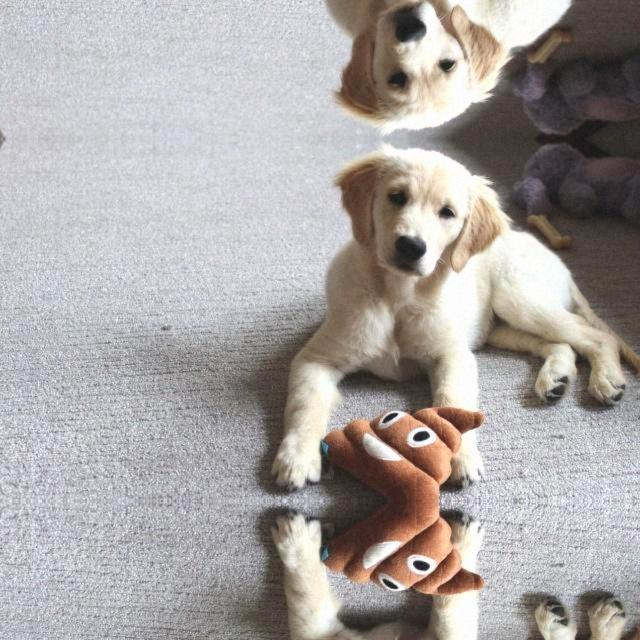dog: (327, 138, 509, 302), (327, 0, 509, 138)
